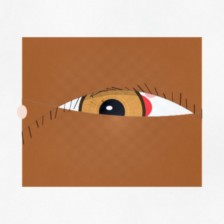hemorrhage_spot: (96, 81, 161, 134)
